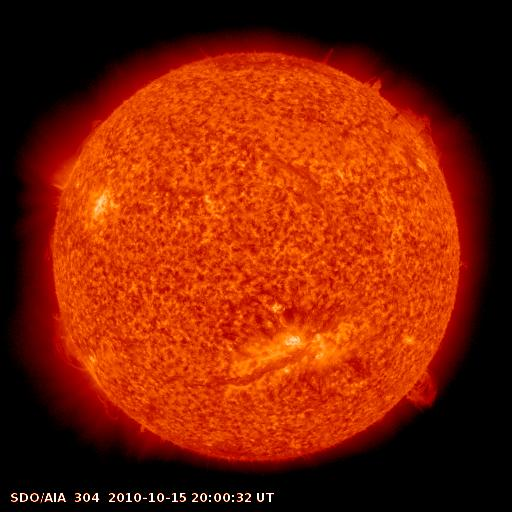prominence: (48, 115, 111, 194), (390, 96, 450, 175), (40, 302, 96, 377), (396, 365, 445, 415), (92, 383, 135, 433), (359, 60, 392, 101)
